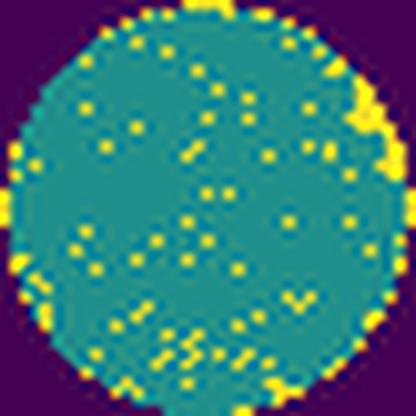Edge-Loc: (344, 73, 409, 184)
